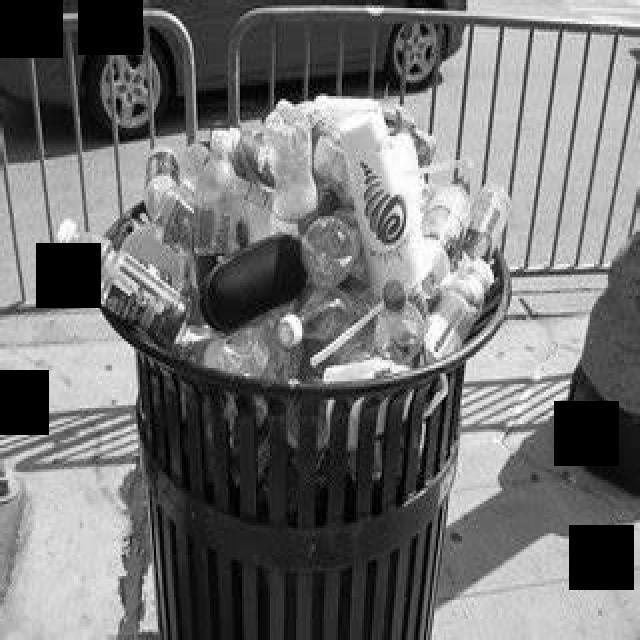Garbage: (54, 97, 511, 384)
Plastic_bottle: (55, 218, 186, 348), (276, 263, 370, 349), (192, 128, 240, 284), (421, 180, 470, 300), (371, 277, 429, 368), (144, 147, 194, 249), (268, 127, 318, 221), (302, 217, 358, 287), (462, 183, 511, 262), (204, 327, 270, 377)
can: (425, 292, 479, 359)
